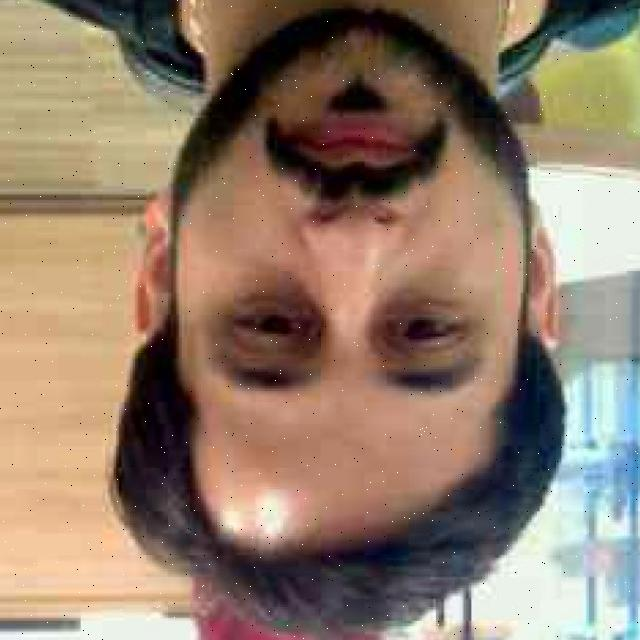puffy_eyes: (239, 271, 318, 312), (378, 282, 442, 308), (228, 298, 303, 318)
